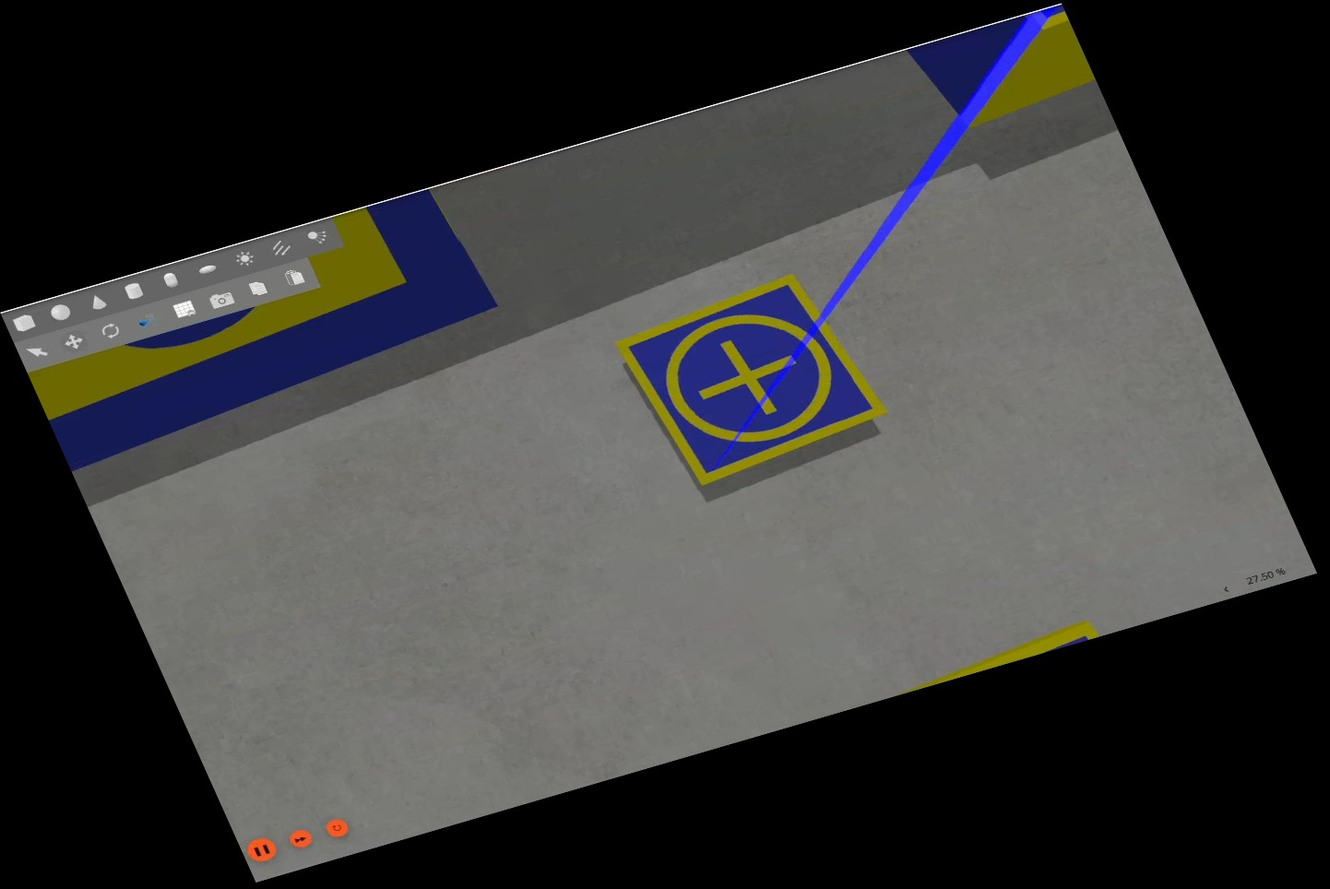large_base: (0, 182, 519, 474)
small_base: (610, 264, 899, 491)
